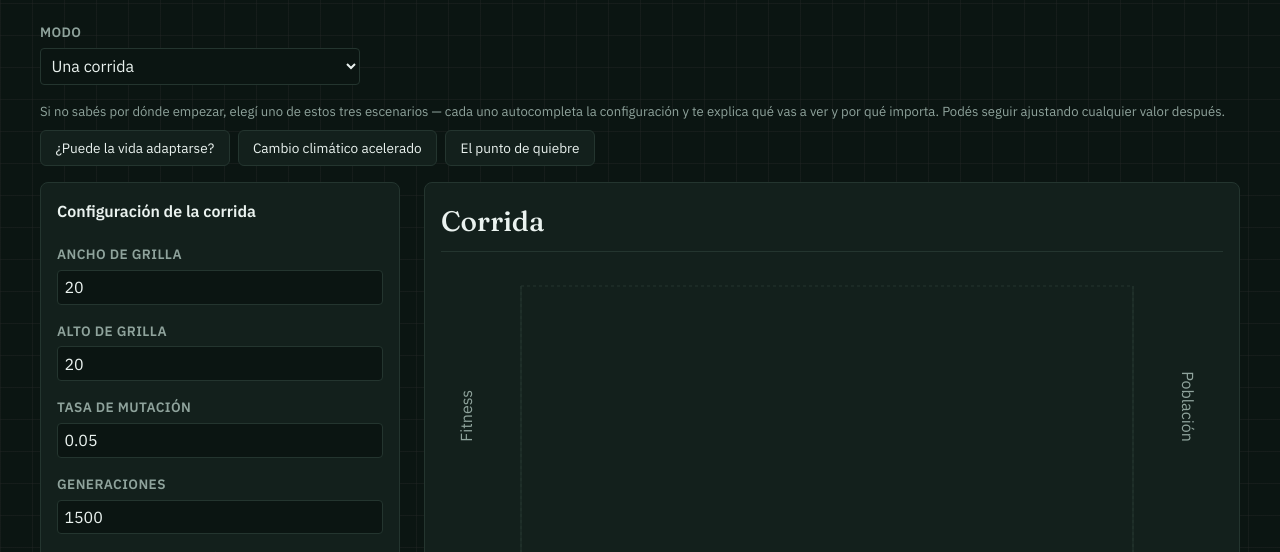
Test: el aviso junto al botón › se actualiza al cambiar la grilla
The width and height of the screenshot is (1280, 552).
Replace the text in the number field labelled "Ancho de grilla" with "40" at [220, 287], box 57,270 -> 383,305
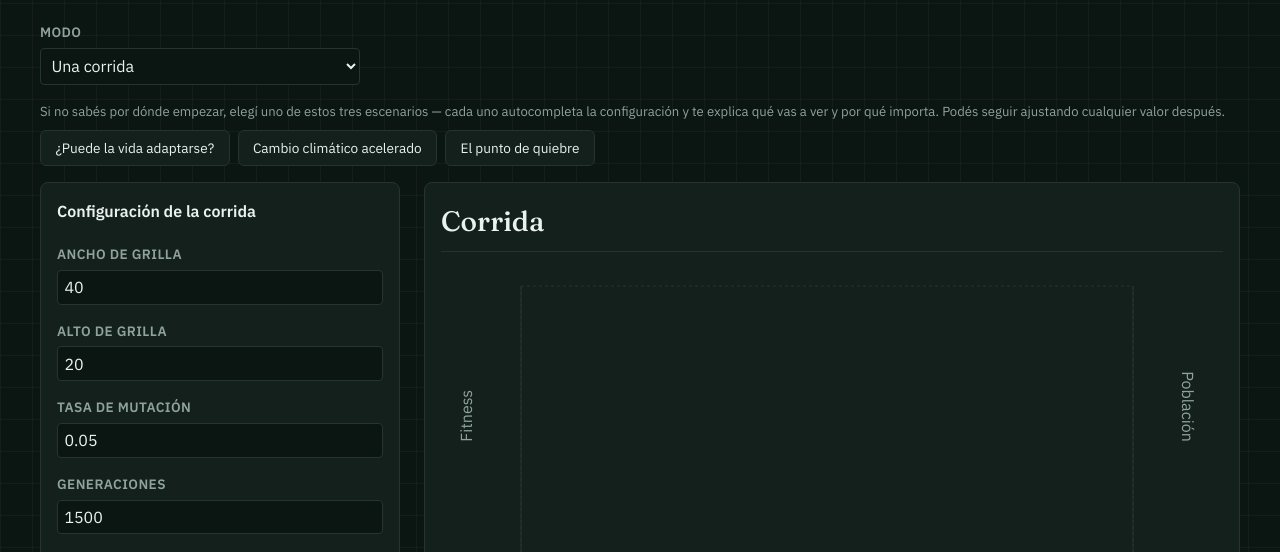
Replace the text in the number field labelled "Alto de grilla" with "40" at [220, 364], box 57,346 -> 383,381
(page scrolled)
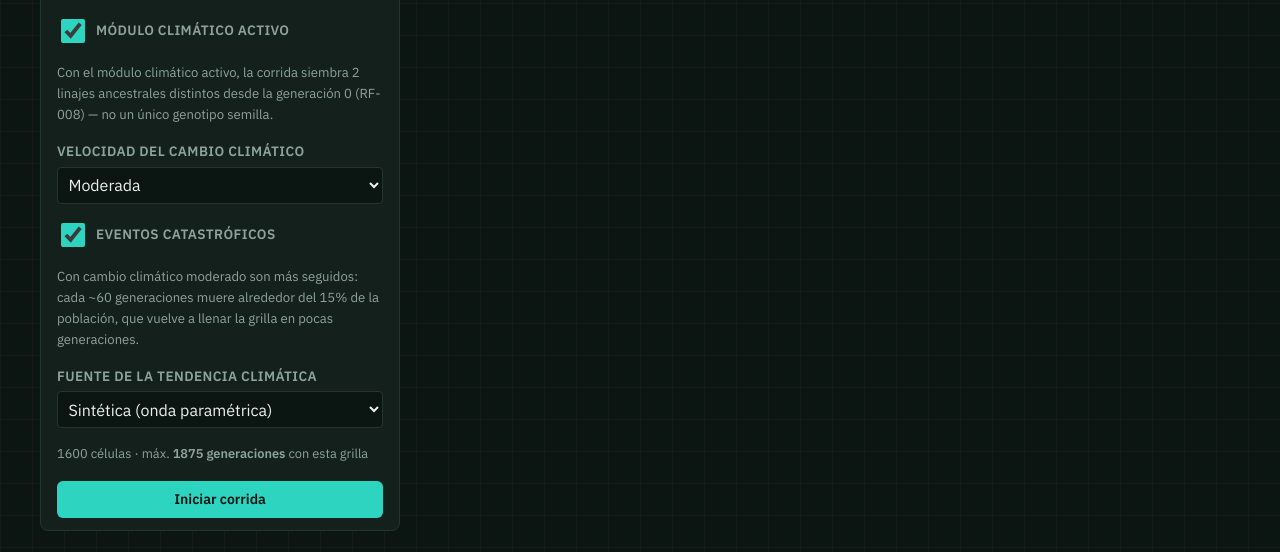
Now the message with class "load-indicator" shows "1600 células · máx. 1875 generaciones", box 57,444 -> 383,465
